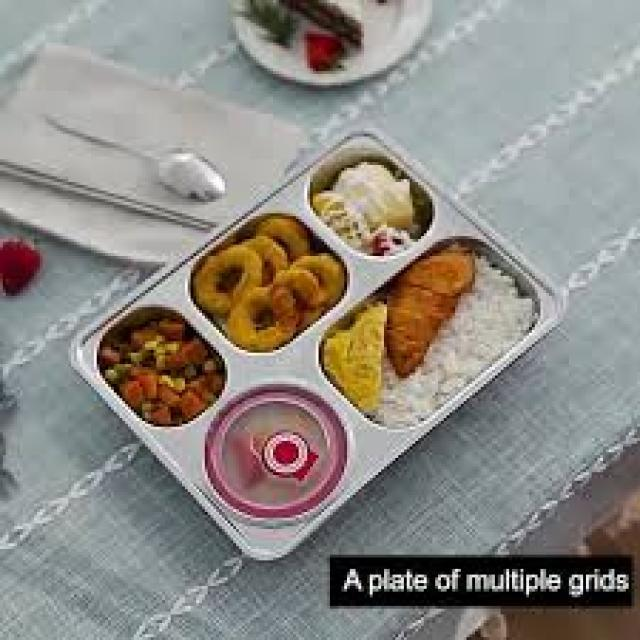pickle: (250, 2, 369, 87), (2, 223, 50, 303)
rice: (496, 87, 639, 260), (559, 233, 639, 459), (4, 356, 118, 506)
roti: (365, 240, 493, 386)
sweet: (216, 397, 351, 510), (311, 144, 440, 262)
veg-fry: (70, 304, 234, 436)
